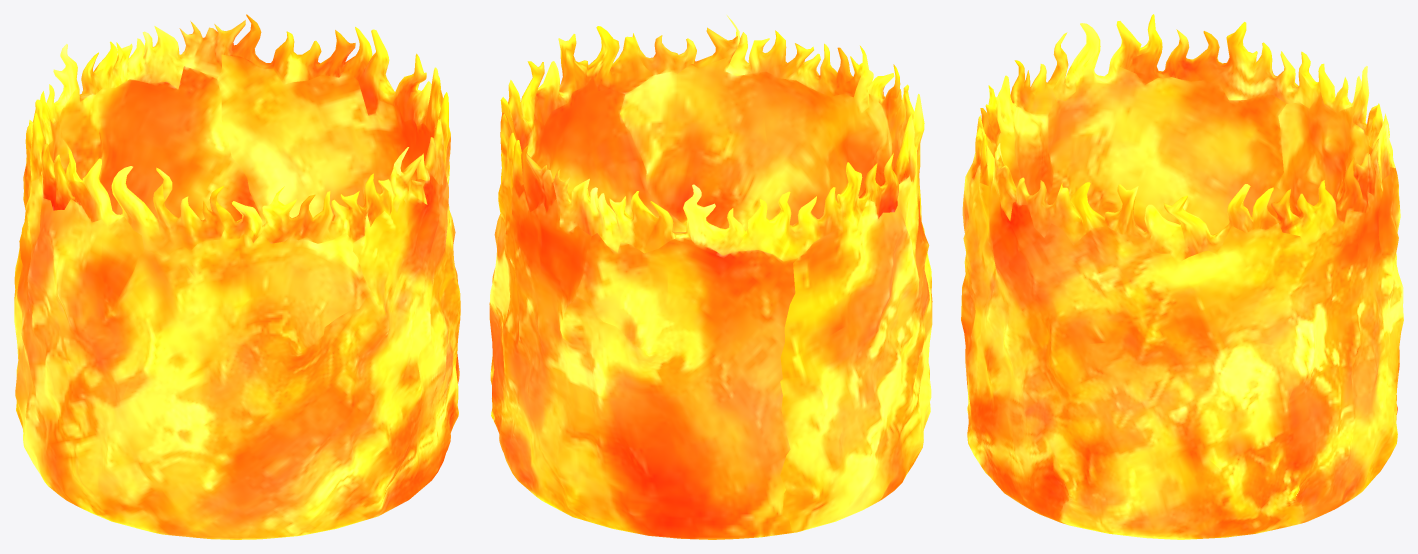
The model's file is MZ4250 - Wall of Fire_ring.glb.
The picture shows the model from 3 angles, left to right: view 1: azimuth 30°, elevation 25°; view 2: azimuth 150°, elevation 25°; view 3: azimuth 270°, elevation 25°; orthographic projection.
Visible parts, largest first — view 1: Cylinder.005; view 2: Cylinder.005; view 3: Cylinder.005.
Part boxes in pixels (x1,y1,x2,y2): Cylinder.005: (14, 14, 460, 539); Cylinder.005: (489, 15, 932, 539); Cylinder.005: (961, 14, 1403, 539).
Size of the model in its own units: 2.97 by 2.67 by 3.
1 material, 1 textured.
